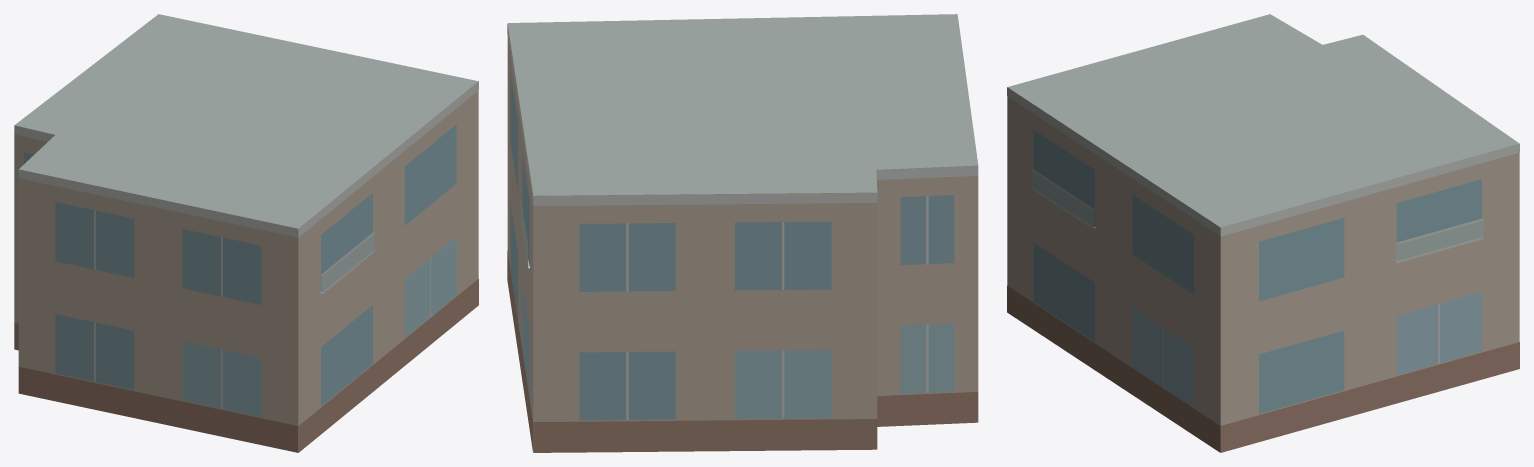
Rendered from survey-upis-32922368.glb.
3 views of the same model, side by side, from view 1: azimuth 30°, elevation 25°; view 2: azimuth 150°, elevation 25°; view 3: azimuth 270°, elevation 25° (orthographic). The views are drawn at different scales.
Visible parts, largest first — view 1: survey-upis-32922368.tmp; view 2: survey-upis-32922368.tmp; view 3: survey-upis-32922368.tmp.
Part boxes in pixels (x1,y1,x2,y2): survey-upis-32922368.tmp: (14,14,478,452); survey-upis-32922368.tmp: (507,14,978,452); survey-upis-32922368.tmp: (1007,14,1519,452).
Bounding box in the file's own units: 12.41 × 6.1 × 12.58.
